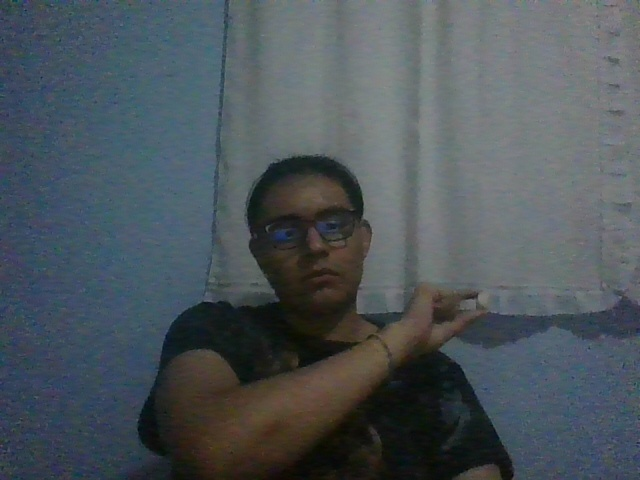goma: (475, 291, 489, 311)
